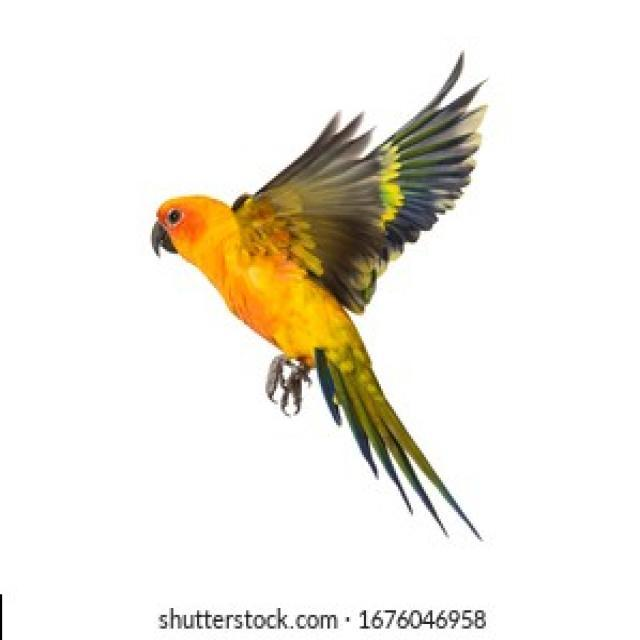bird: (34, 16, 595, 556)
